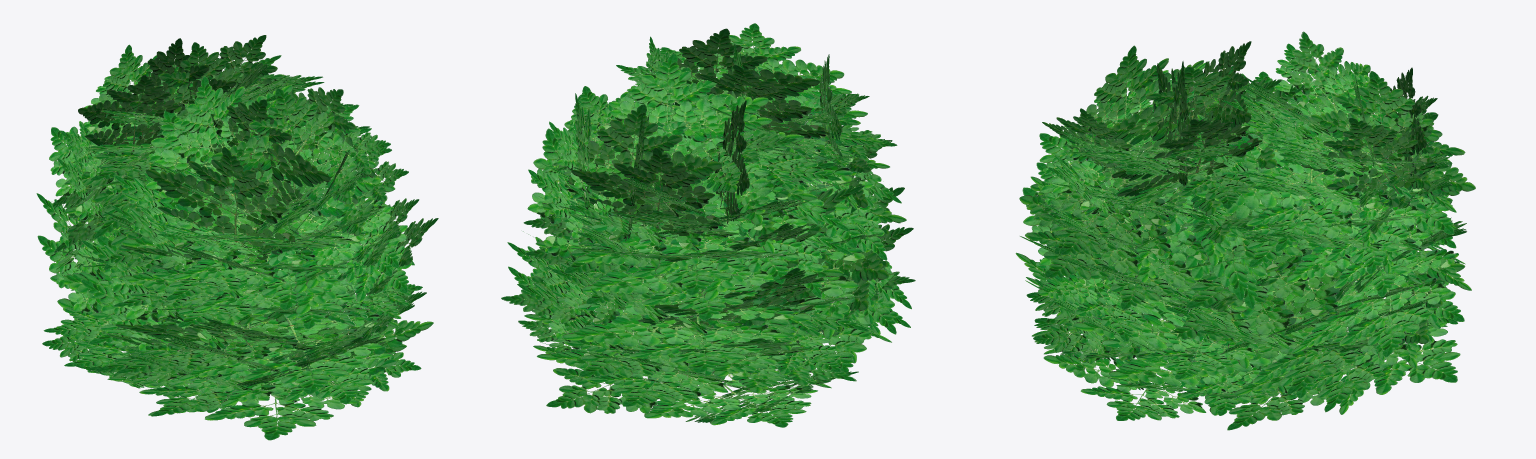
Rendered from buisson_3_3.FBX.
The picture shows the model from 3 angles, left to right: view 1: azimuth 30°, elevation 25°; view 2: azimuth 150°, elevation 25°; view 3: azimuth 270°, elevation 25°; orthographic projection. The views are drawn at different scales.
Parts seen in each view (by area): view 1: Plane2191; view 2: Plane2191; view 3: Plane2191.
Part boxes in pixels (x1,y1,x2,y2): Plane2191: [36, 35, 438, 440]; Plane2191: [501, 23, 915, 427]; Plane2191: [1015, 31, 1475, 430].
Bounding box in the file's own units: 185 × 166 × 233.
Materials: 1 (1 with a texture image).
